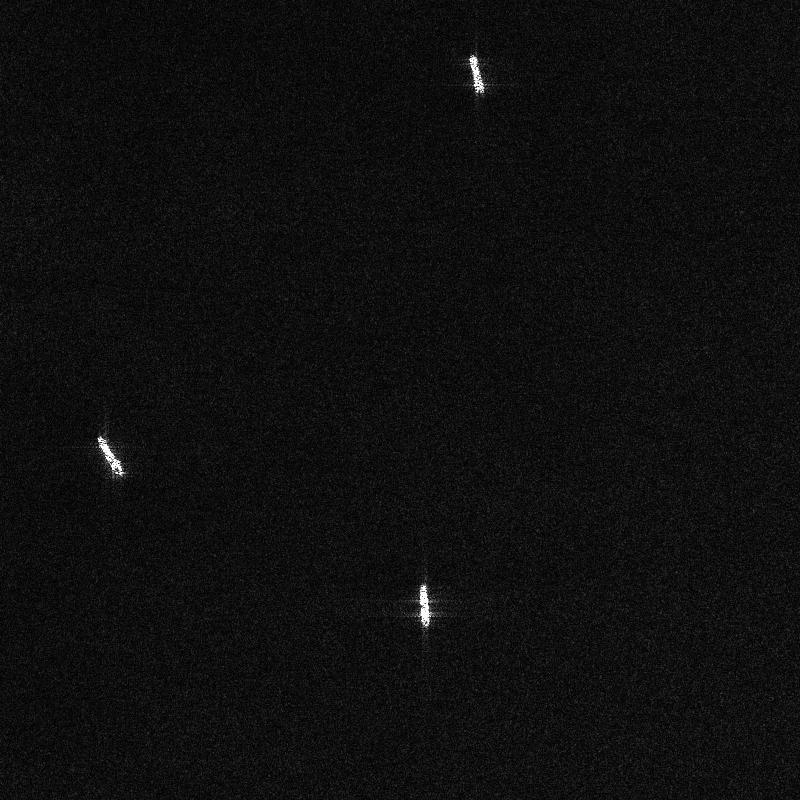ship: (97, 435, 123, 476), (468, 54, 484, 94), (419, 583, 429, 626)
